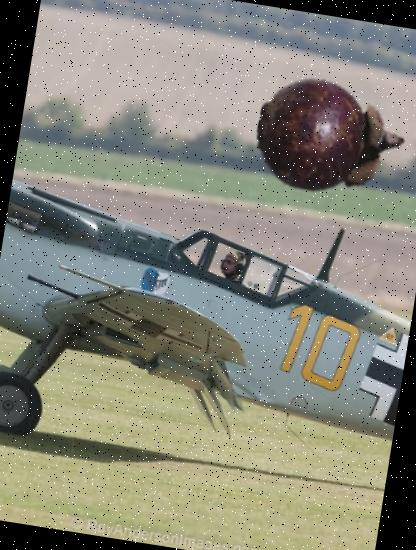Mangostan: (246, 55, 414, 223)
